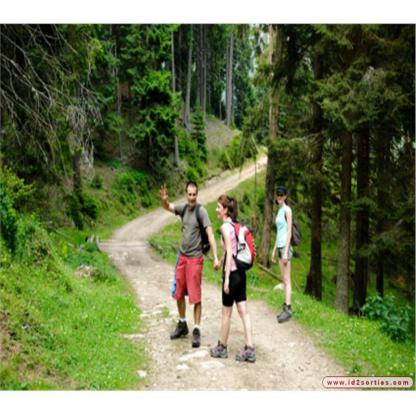face: (188, 190, 197, 207), (217, 203, 226, 218), (278, 192, 285, 204)
